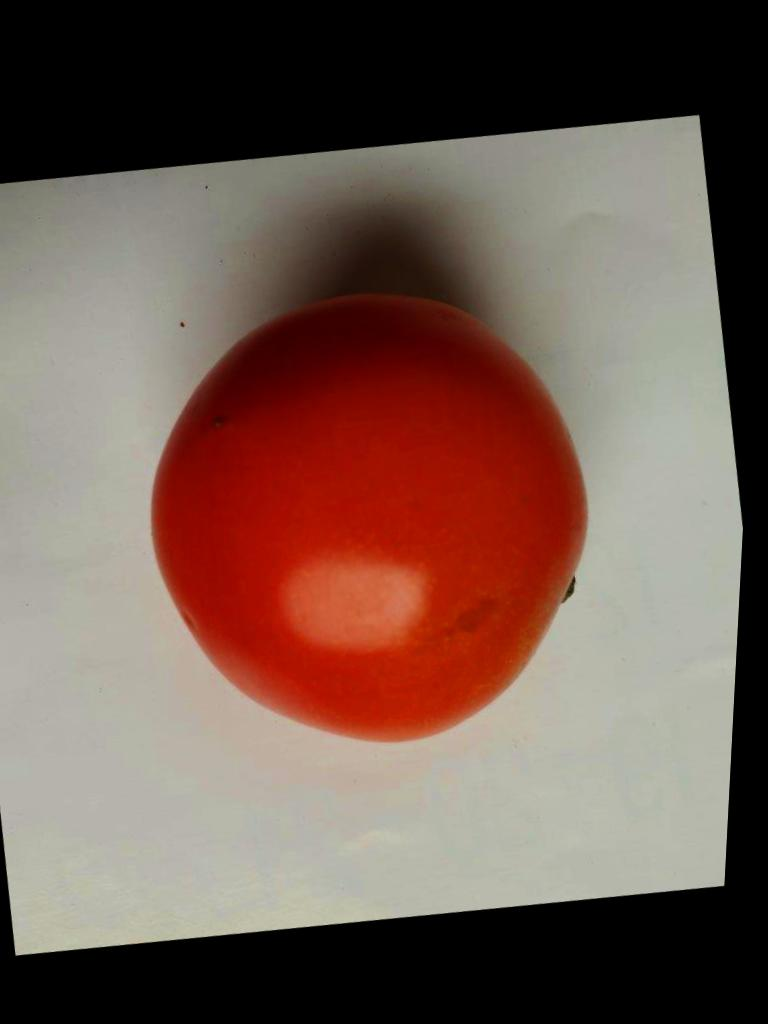tomato: (153, 293, 586, 740)
